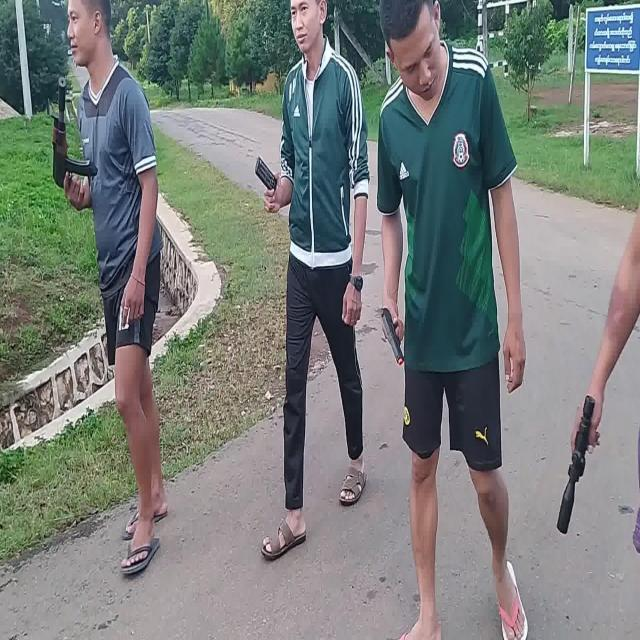gun: (52, 79, 97, 188), (382, 308, 406, 366)
